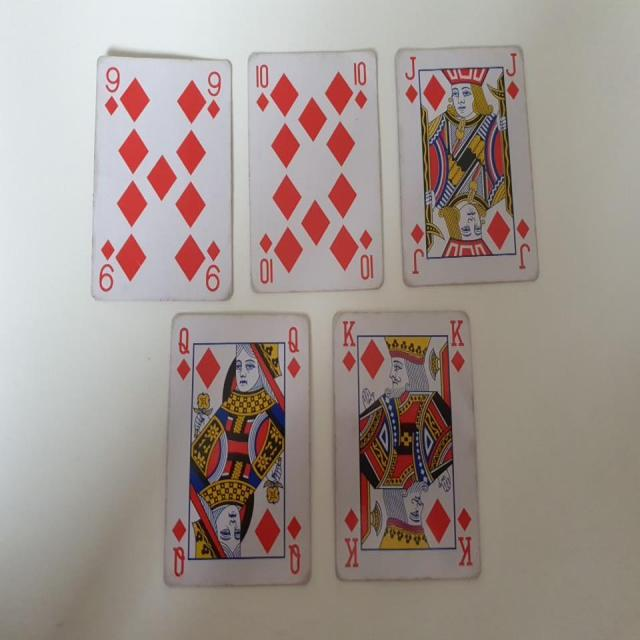10 Diamonds: (245, 46, 388, 297)
9 Diamonds: (90, 52, 234, 298)
J Diamonds: (393, 46, 540, 286)
K Diamonds: (331, 308, 485, 584)
Q Diamonds: (161, 312, 313, 590)
